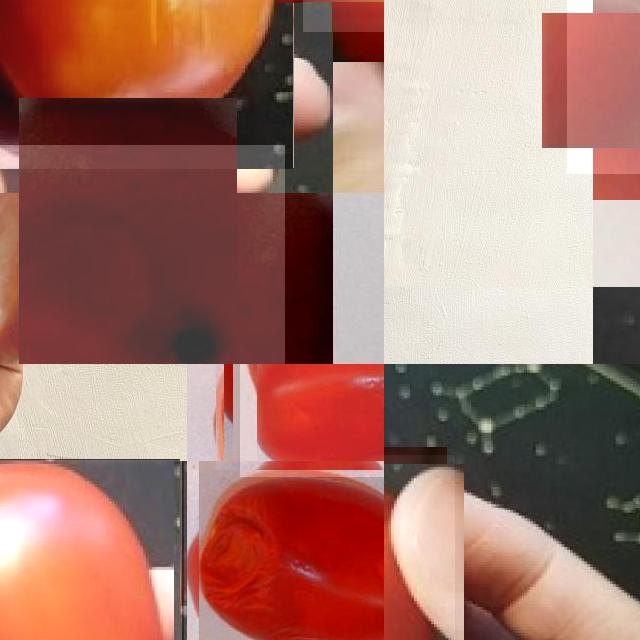Fresh Tomato: (0, 459, 181, 640), (567, 0, 640, 174)
Rotten Tomato: (0, 145, 285, 364), (0, 0, 293, 168), (199, 461, 384, 640), (240, 364, 384, 477)
